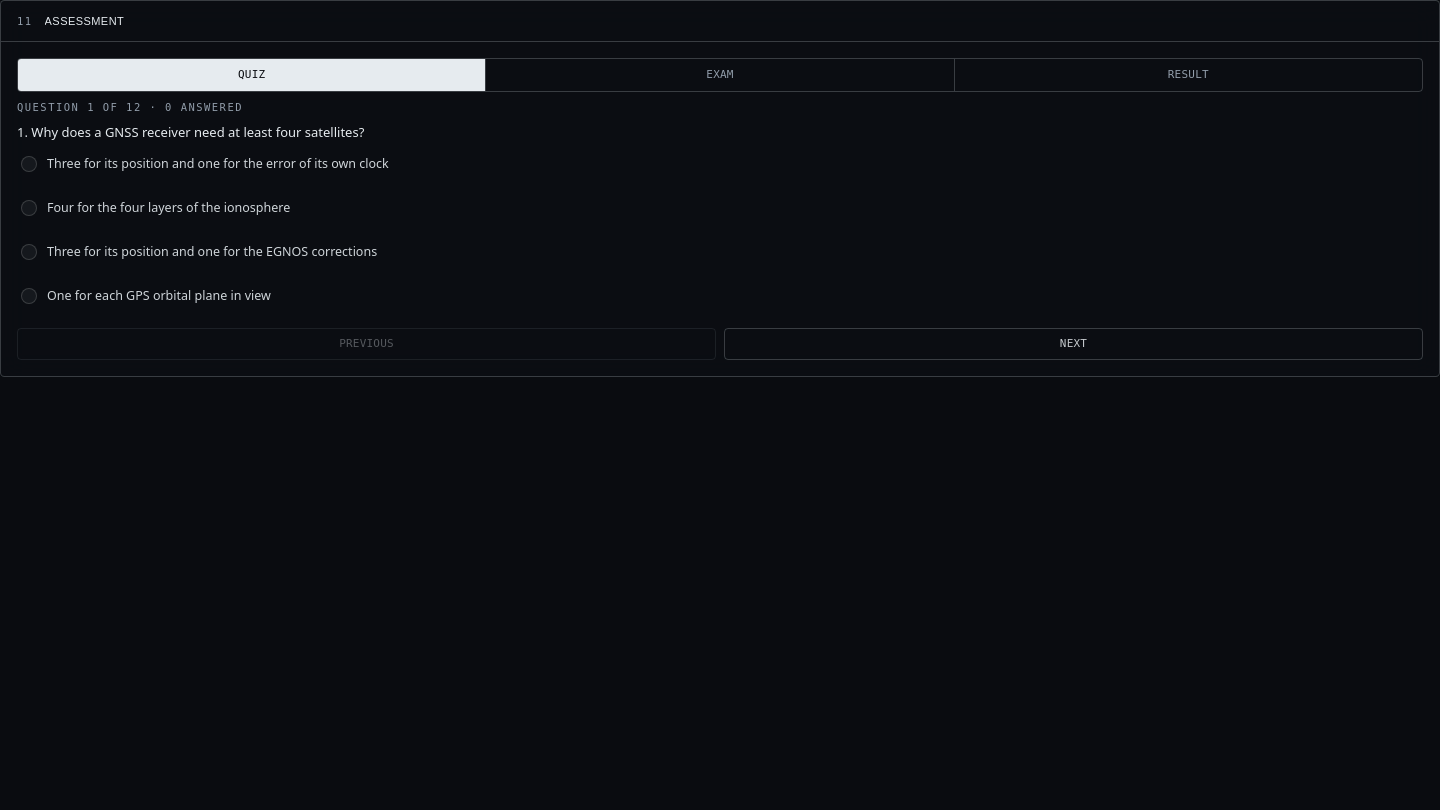
Test: the assessment panel › runs an exam: a hidden failure on final, Break something locked, then marked and mended
This screenshot has width=1440, height=810.
What coordinates should you click on to do the following:
click the radio button labelled "Exam"
I would click on:
 (719, 75)
Its box is x1=485 y1=59 x2=954 y2=91.
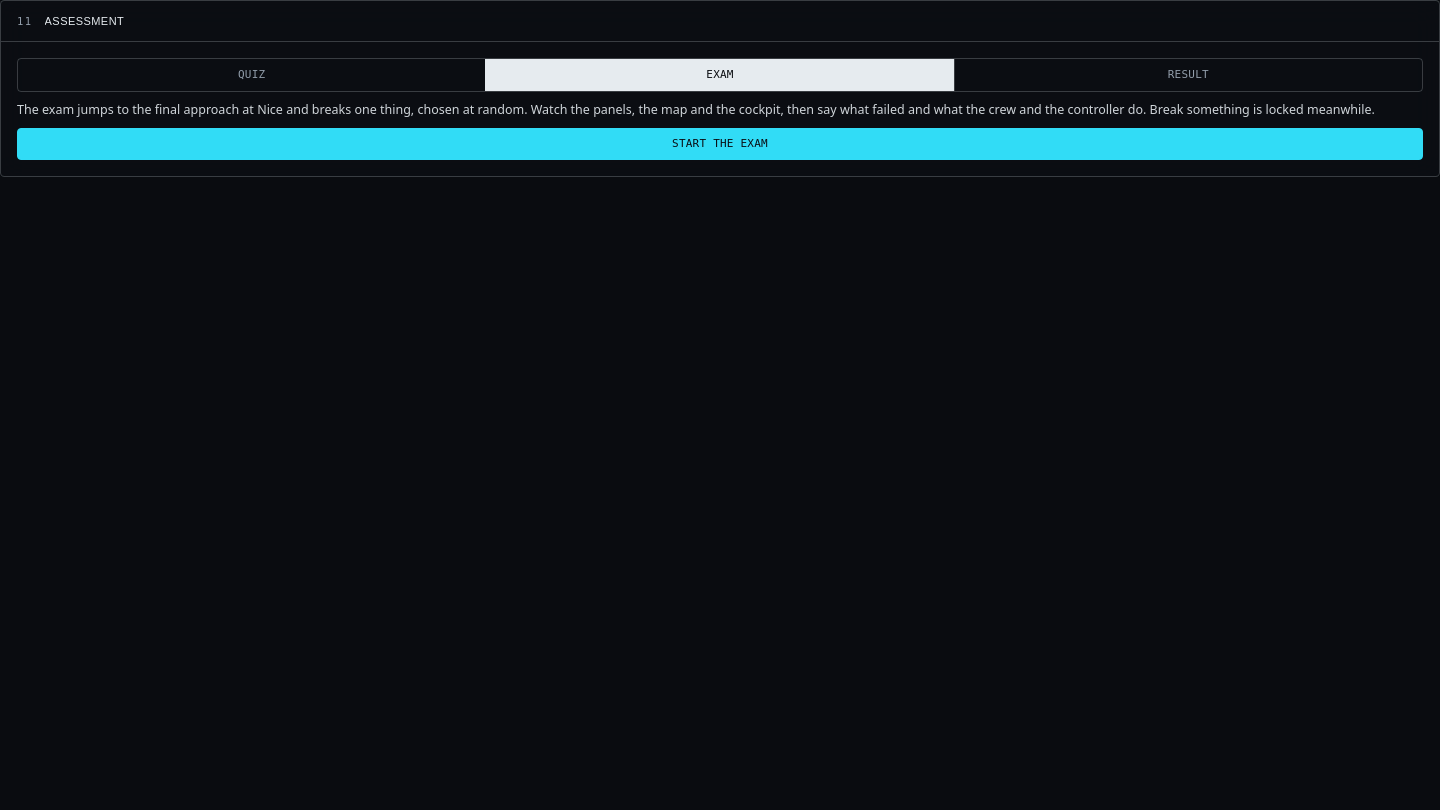
What coordinates should you click on to do the following:
click the button "Start the exam"
I would click on:
 (720, 144)
Its box is x1=17 y1=128 x2=1423 y2=160.
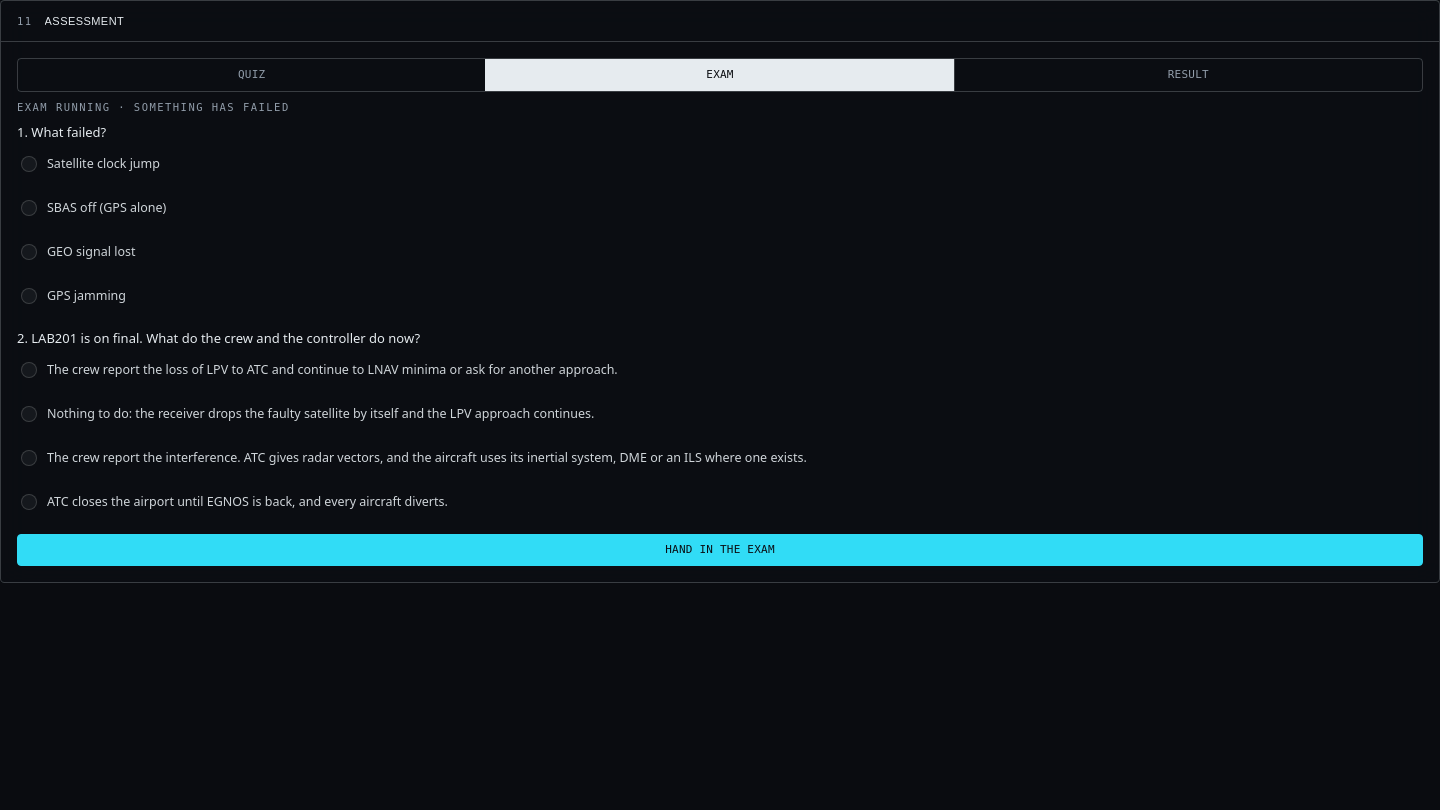
# Answer right: the failure that is on, and the response to what it shows on final.
What coordinates should you click on to do the following:
click the radio button named "SBAS off (GPS alone)" next to "SBAS off (GPS alone)"
I would click on:
 (29, 208)
Its box is x1=21 y1=200 x2=37 y2=216.
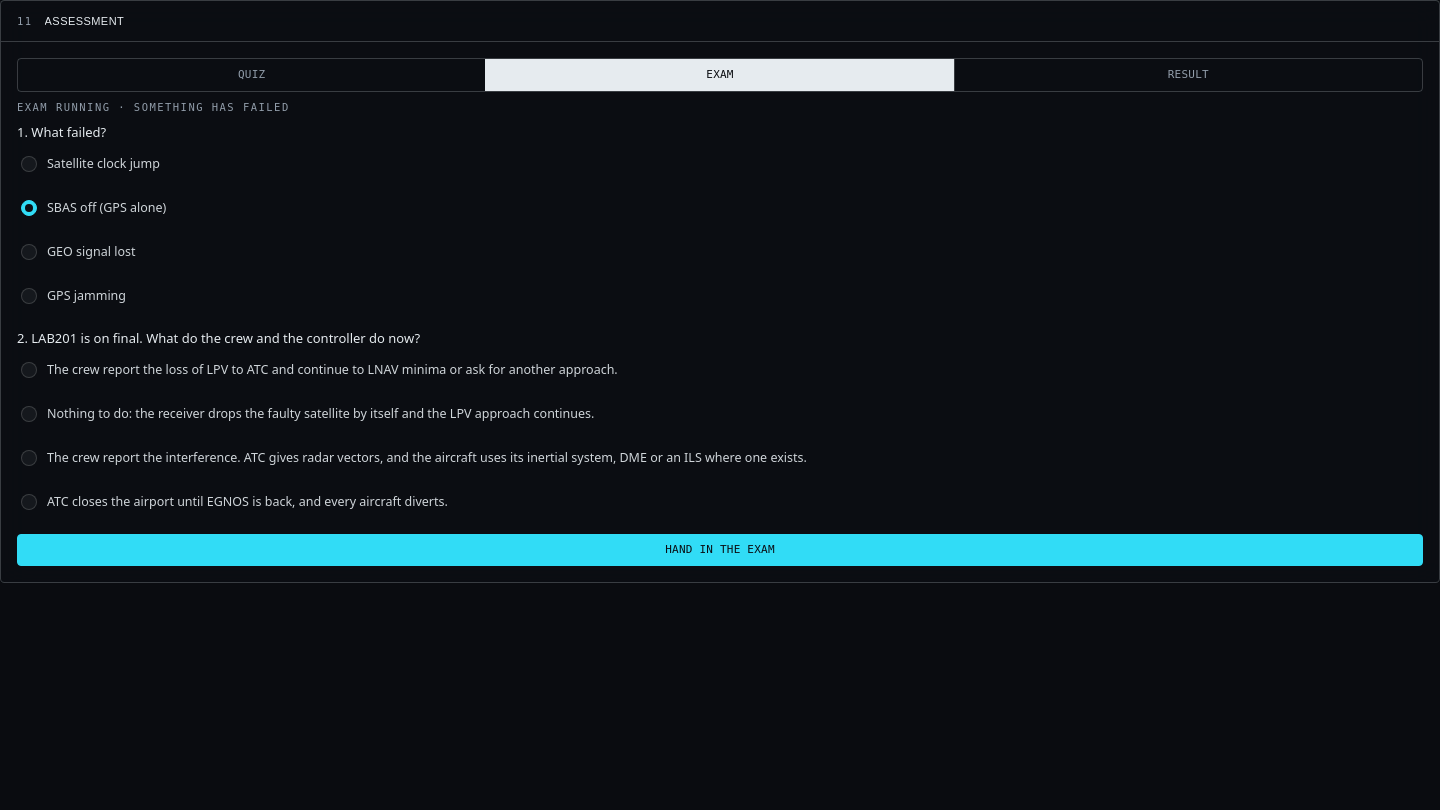
What coordinates should you click on to do the following:
click the 5th radio button named "The crew report the loss of LPV to ATC and continue to LNAV minima or ask for another approach."
I would click on:
 (29, 370)
Its box is x1=21 y1=362 x2=37 y2=378.
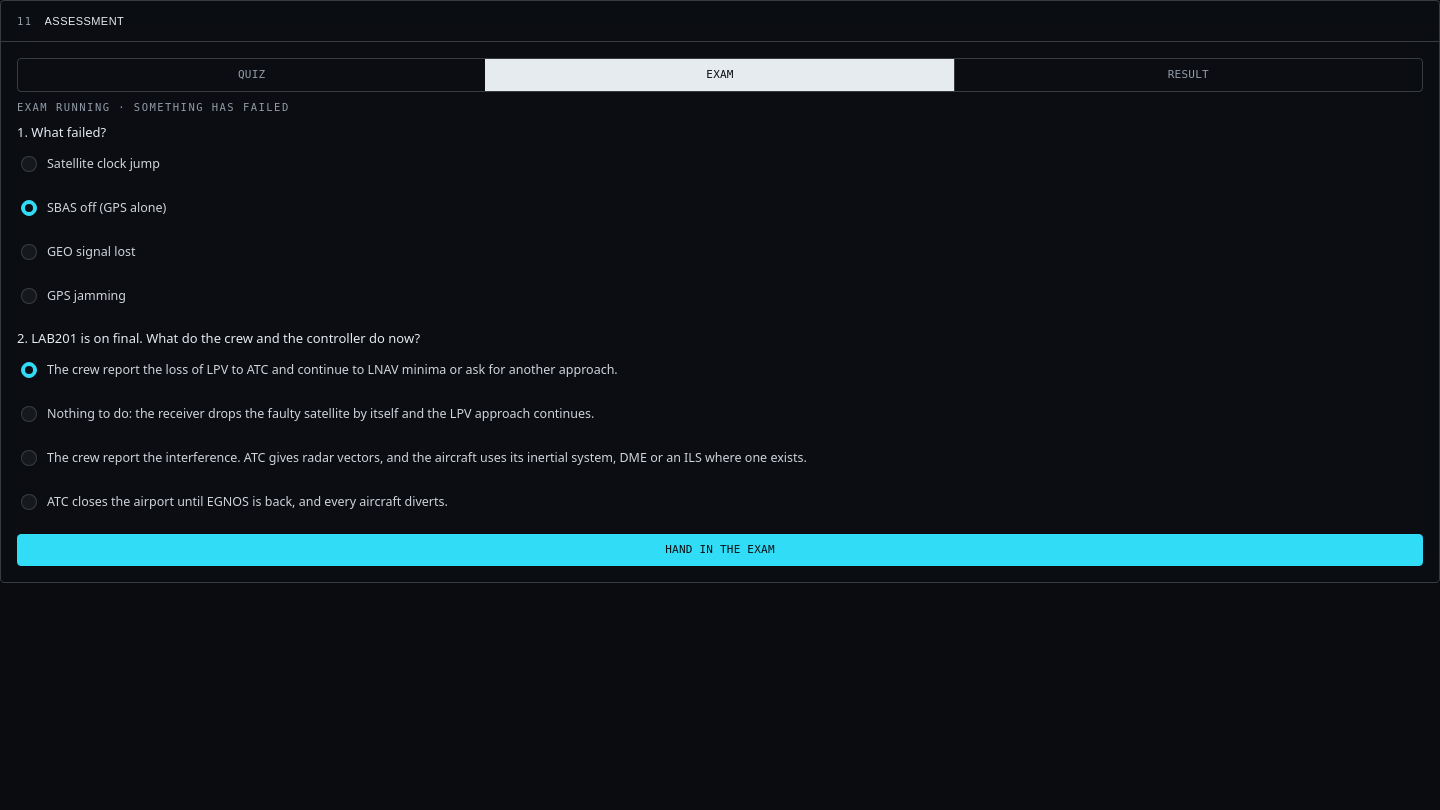
What coordinates should you click on to do the following:
click the button "Hand in the exam"
I would click on:
 (720, 550)
Its box is x1=17 y1=534 x2=1423 y2=566.
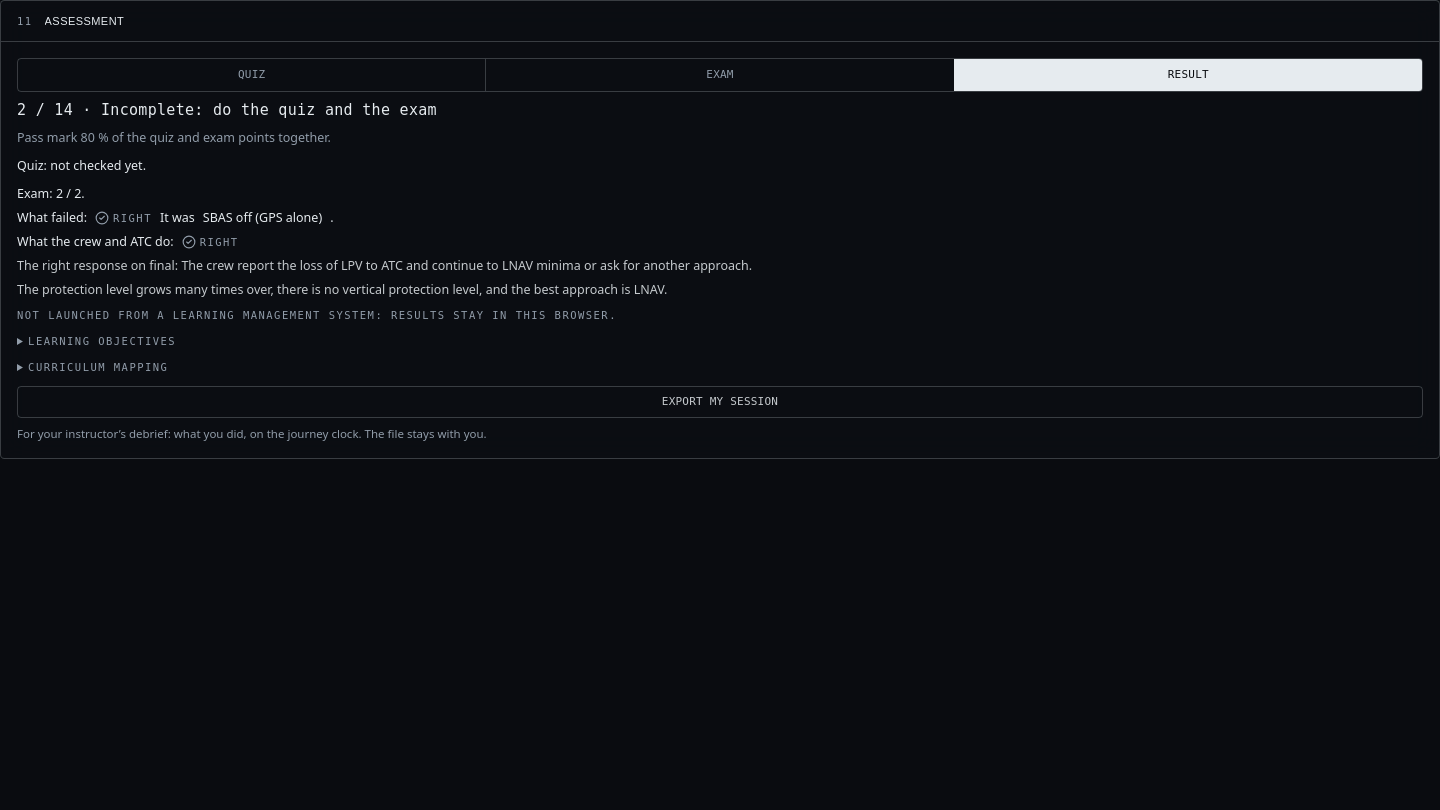
Expected: the text "Exam: 2 / 2." is shown, x1=17 y1=185 x2=85 y2=202
Expected: the text "2 / 14 · Incomplete: do the quiz and the exam" is shown, x1=17 y1=101 x2=437 y2=119
